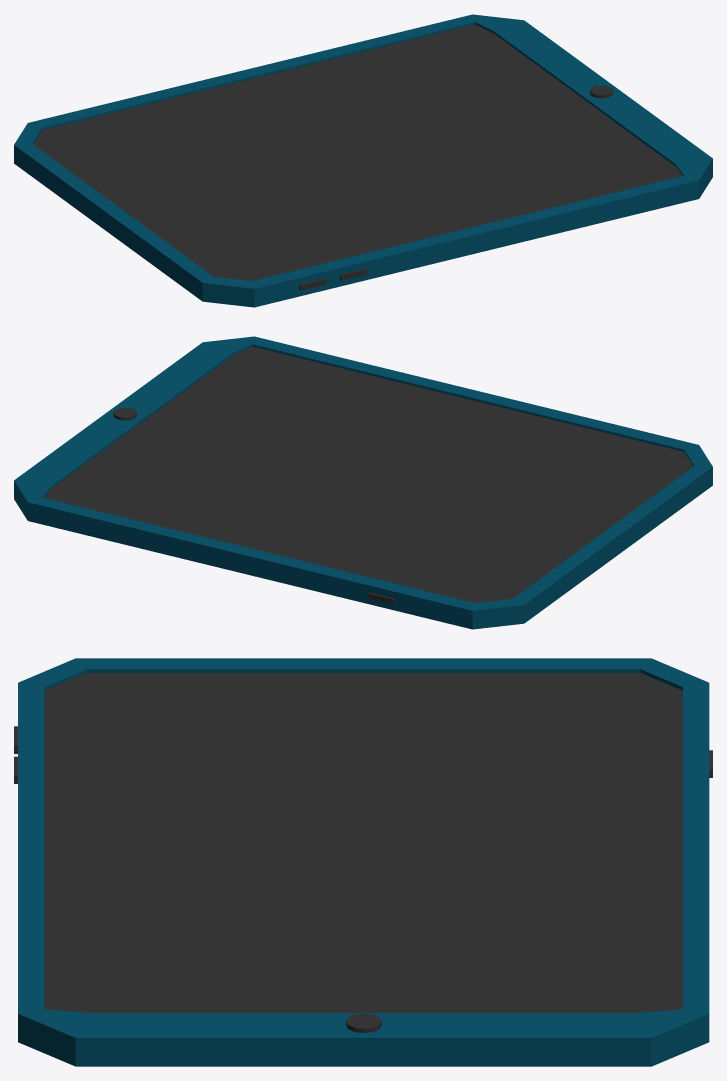
Rendered from Tablet.glb.
3 views of the same model, one above another, from view 1: azimuth 30°, elevation 25°; view 2: azimuth 150°, elevation 25°; view 3: azimuth 270°, elevation 25° (orthographic). The views are drawn at different scales.
Parts seen in each view (by area): view 1: Cube.002; view 2: Cube.002; view 3: Cube.002.
Boxes of the visible parts, <box> form: Cube.002: <box>14,14,712,307</box>; Cube.002: <box>14,336,712,629</box>; Cube.002: <box>14,658,712,1066</box>.
Size of the model in its own units: 1.68 by 0.0678 by 1.3.
